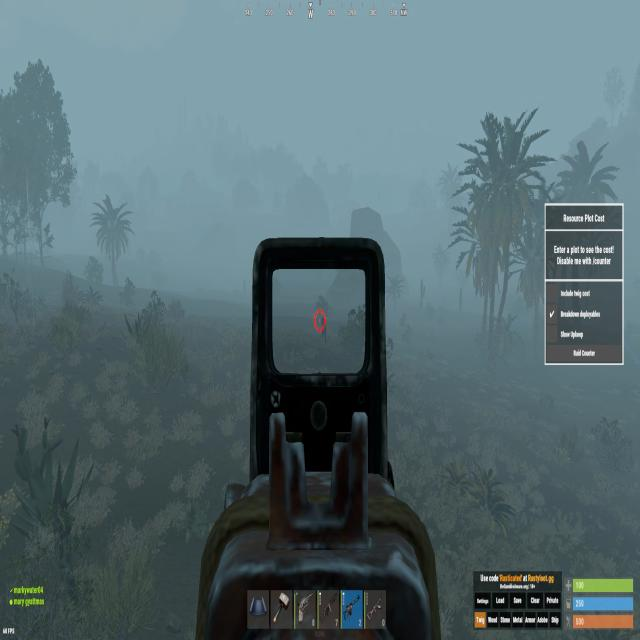Player: (320, 313, 328, 345)
